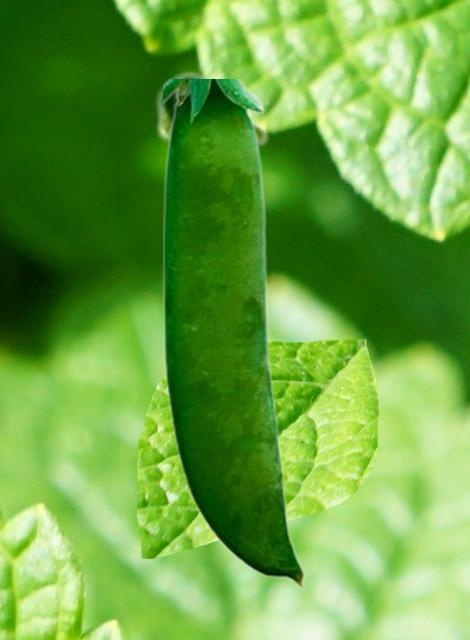pea: (163, 79, 304, 589), (153, 68, 271, 340)
